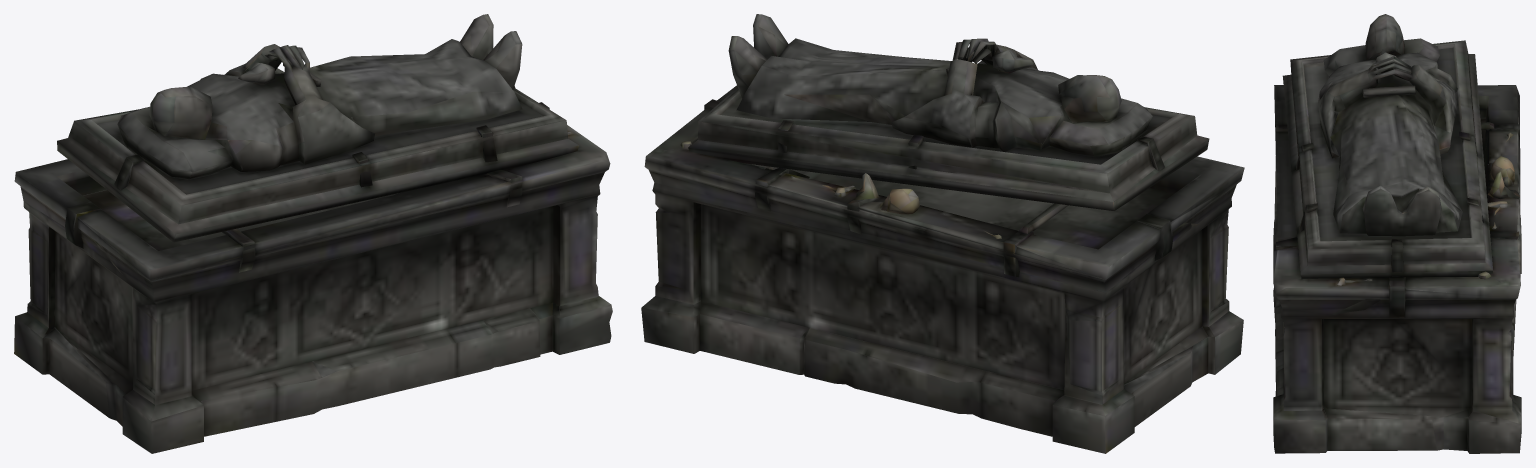
File: sarcophagus.glb
The picture shows the model from 3 angles, left to right: view 1: azimuth 30°, elevation 25°; view 2: azimuth 150°, elevation 25°; view 3: azimuth 270°, elevation 25°; orthographic projection. The views are drawn at different scales.
Parts seen in each view (by area): view 1: tripo_node_7a7172dd-d7b1-4d2a-95a4-b93c87e6027a; view 2: tripo_node_7a7172dd-d7b1-4d2a-95a4-b93c87e6027a; view 3: tripo_node_7a7172dd-d7b1-4d2a-95a4-b93c87e6027a.
Part boxes in pixels (<box>): tripo_node_7a7172dd-d7b1-4d2a-95a4-b93c87e6027a: <box>14,14,612,453</box>; tripo_node_7a7172dd-d7b1-4d2a-95a4-b93c87e6027a: <box>641,14,1244,453</box>; tripo_node_7a7172dd-d7b1-4d2a-95a4-b93c87e6027a: <box>1273,14,1521,453</box>.
Bounding box in the file's own units: 0.998 × 0.6348 × 0.5098.
Materials: 1 (1 with a texture image).
